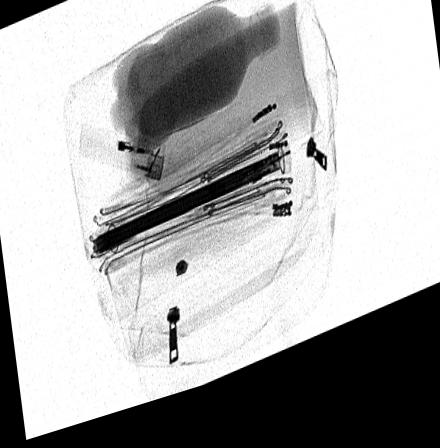Lighter: (78, 121, 164, 193)
